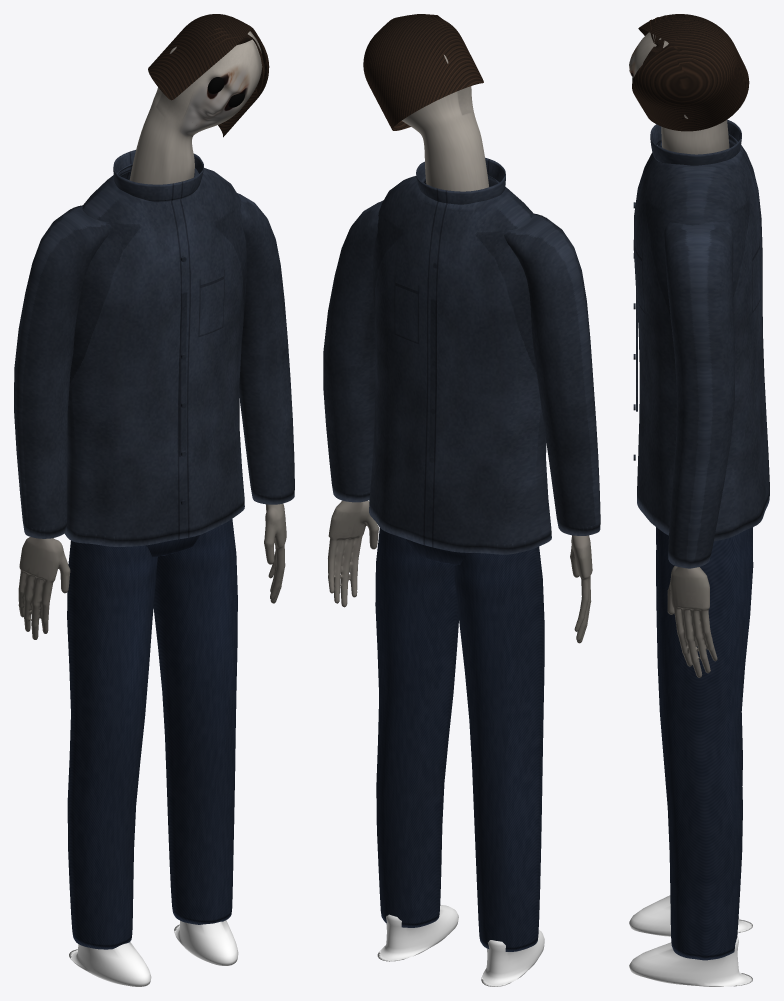
The model's file is Flawed_02_CuelloRoto.fbx.
The picture shows the model from 3 angles, left to right: view 1: azimuth 30°, elevation 25°; view 2: azimuth 150°, elevation 25°; view 3: azimuth 270°, elevation 25°; orthographic projection. The views are drawn at different scales.
Visible parts, largest first — view 1: FL_Camisa, FL_Pantalon, FL_Cabeza, FL_Cabello, FL_Brazos, FL_Zapatos; view 2: FL_Camisa, FL_Pantalon, FL_Cabello, FL_Cabeza, FL_Brazos, FL_Zapatos; view 3: FL_Camisa, FL_Pantalon, FL_Cabello, FL_Zapatos, FL_Brazos, FL_Cabeza.
Part boxes in pixels (x1,y1,x2,y2): FL_Camisa: (14,150,294,546); FL_Pantalon: (67,519,237,949); FL_Cabeza: (129,31,262,184); FL_Cabello: (148,14,269,137); FL_Brazos: (18,503,286,639); FL_Zapatos: (69,920,238,986); FL_Camisa: (323,157,600,554); FL_Pantalon: (375,528,544,951); FL_Cabello: (363,14,483,130); FL_Cabeza: (402,55,488,191); FL_Brazos: (328,500,592,643); FL_Zapatos: (377,904,544,986); FL_Camisa: (633,119,769,568); FL_Pantalon: (656,527,753,960); FL_Cabello: (632,14,749,131); FL_Zapatos: (629,895,752,986); FL_Brazos: (667,566,717,677); FL_Cabeza: (629,32,729,154).
Size of the model in its own units: 0.5712 by 1.87 by 0.2475.
Materials: 6 (4 with a texture image).
